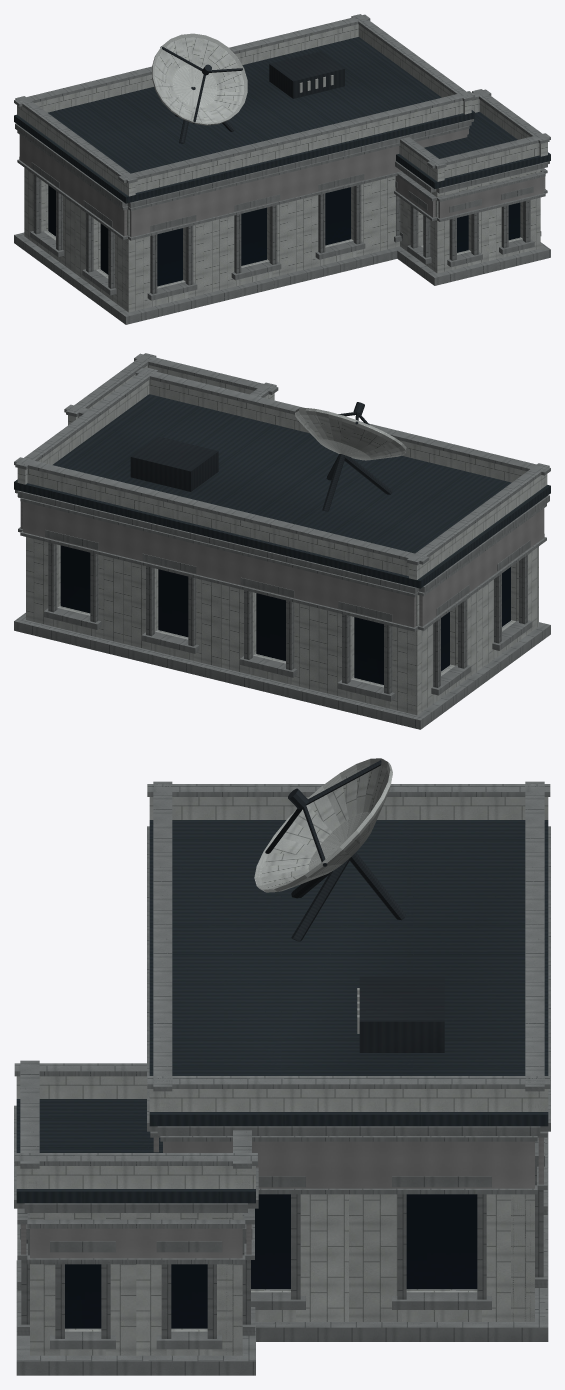
The model's file is research_lab-0a2b40af.glb.
The picture shows the model from 3 angles, top to bottom: view 1: azimuth 30°, elevation 25°; view 2: azimuth 150°, elevation 25°; view 3: azimuth 270°, elevation 25°; orthographic projection. The views are drawn at different scales.
Visible parts, largest first — view 1: LOD0; view 2: LOD0; view 3: LOD0.
Part boxes in pixels (x1=…): LOD0: x1=14, y1=14, x2=550, y2=324; LOD0: x1=14, y1=353, x2=550, y2=729; LOD0: x1=14, y1=758, x2=550, y2=1375.
Size of what is drawn, in the model's own units: 1.51 by 0.7791 by 1.01.
2 materials, 2 textured.
